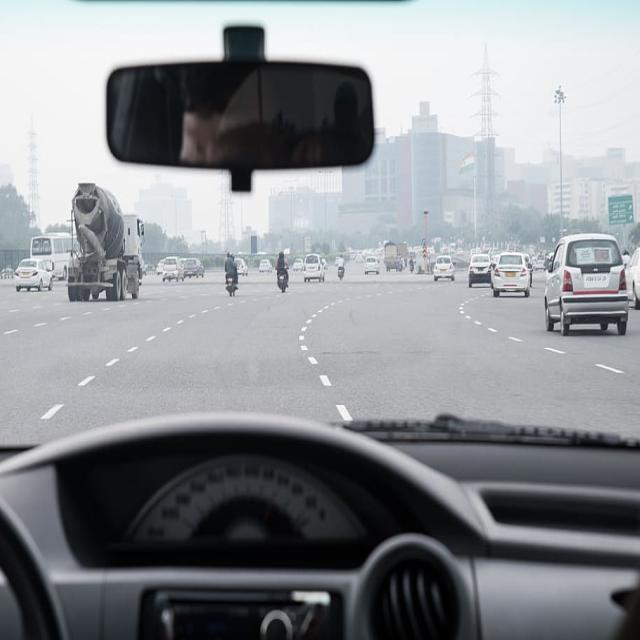car: (545, 234, 629, 335), (491, 253, 531, 296), (15, 259, 52, 292)
truck: (68, 184, 142, 301)
